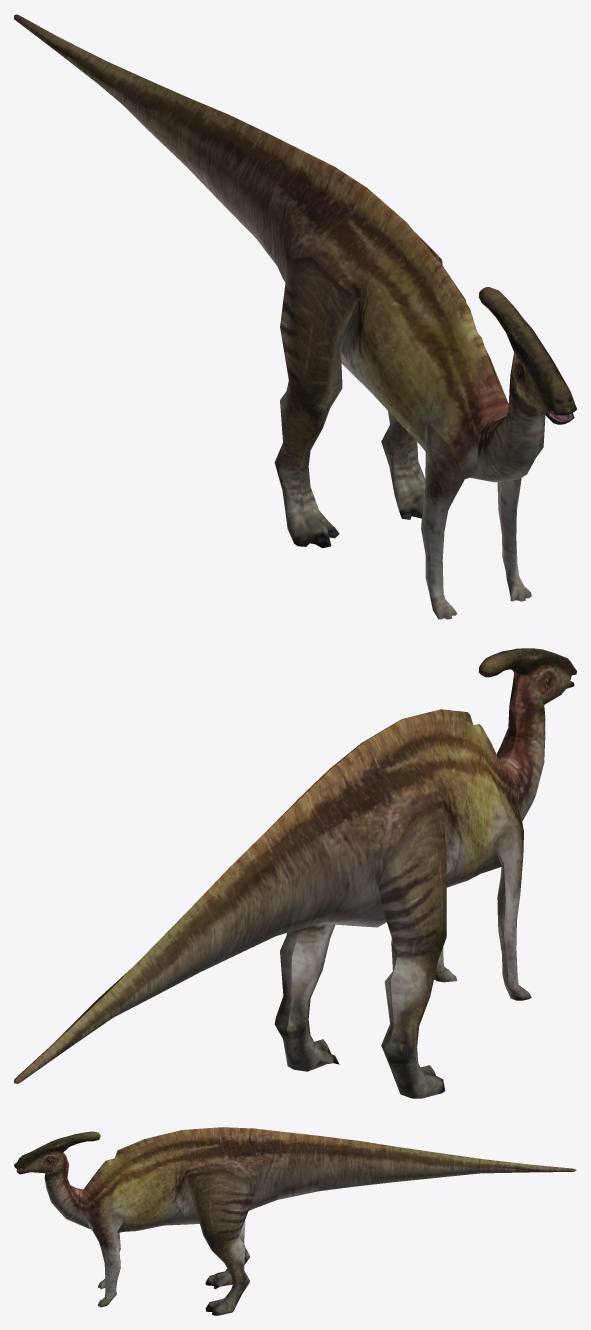
Rendered from paras.obj.
3 renders of one model, top to bottom at view 1: azimuth 30°, elevation 25°; view 2: azimuth 150°, elevation 25°; view 3: azimuth 270°, elevation 25°, orthographic. The views are drawn at different scales.
Parts seen in each view (by area): view 1: paras; view 2: paras; view 3: paras.
Part boxes in pixels (left/top/right/bottom): paras: left=14, top=14, right=576, bottom=619; paras: left=14, top=648, right=576, bottom=1098; paras: left=14, top=1127, right=576, bottom=1315.
Size of the model in its own units: 1.68 by 3.64 by 10.9.
Materials: 1 (1 with a texture image).
